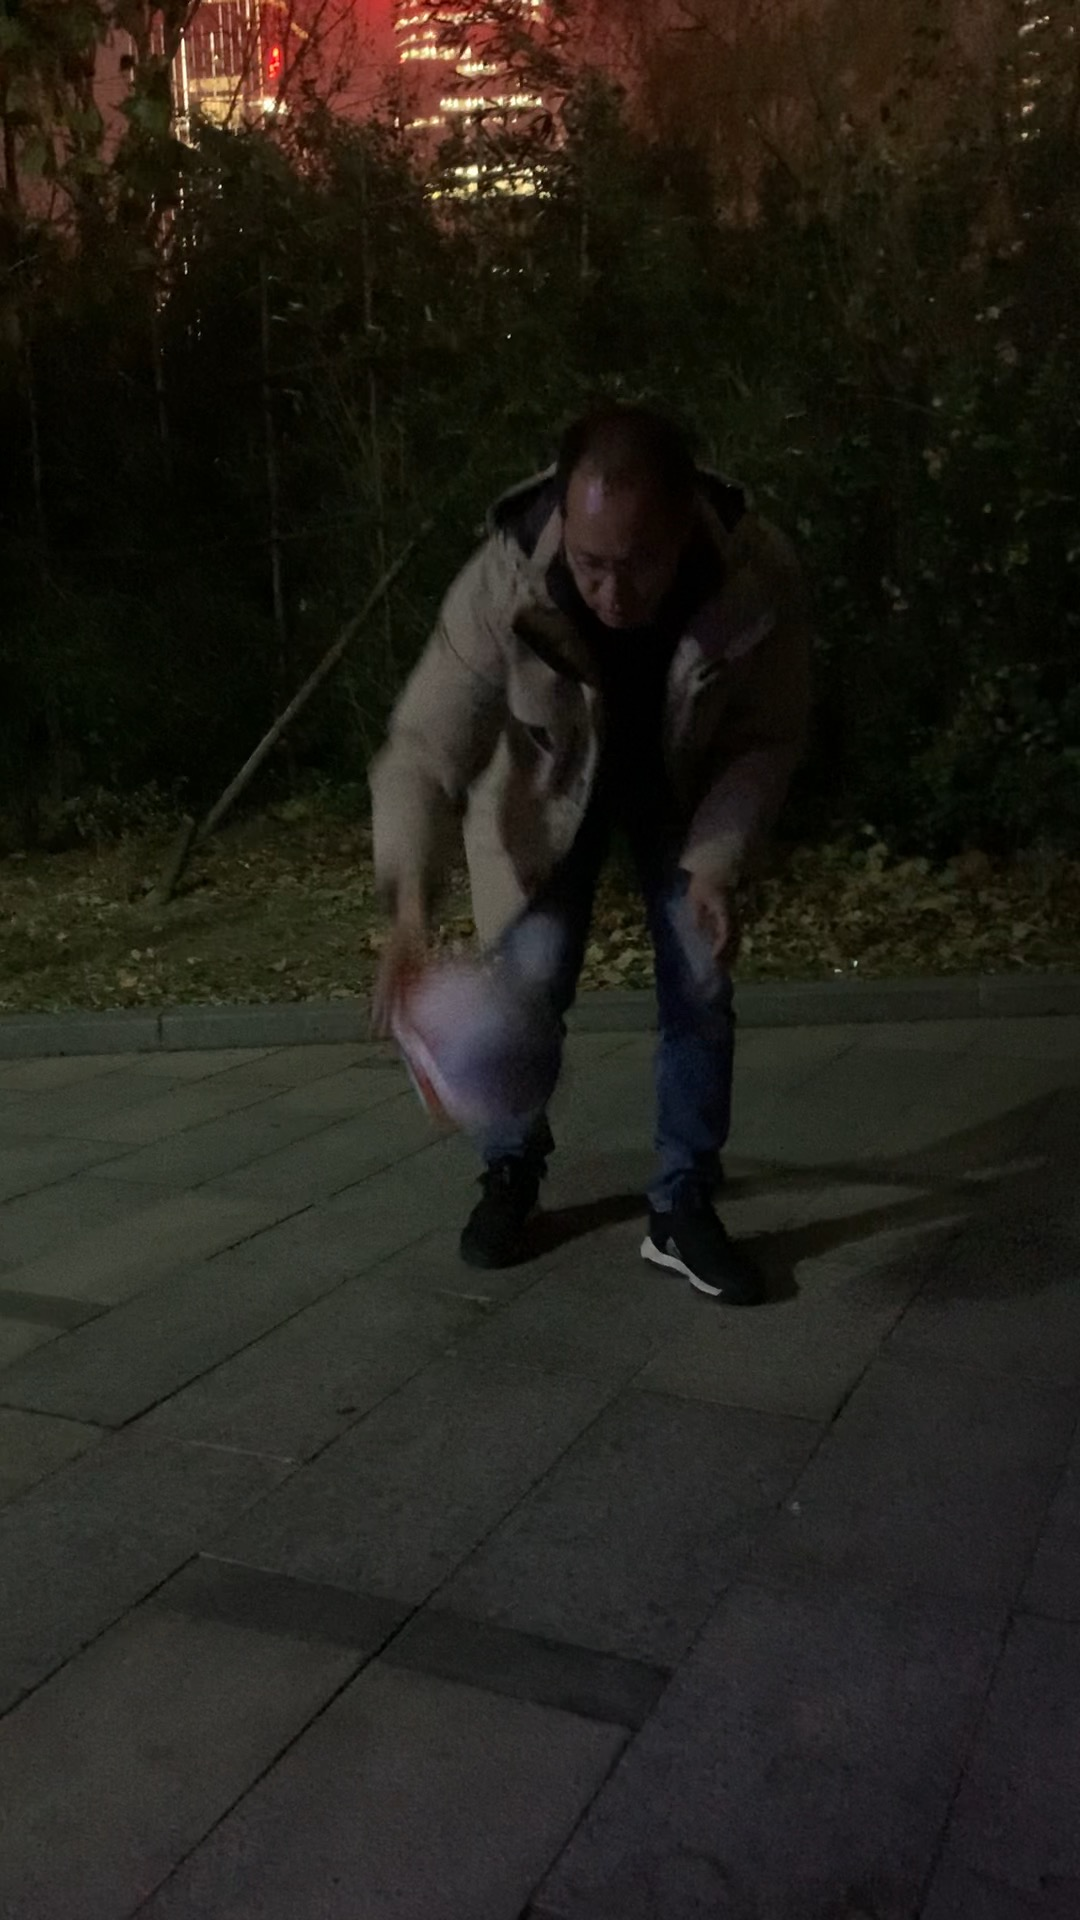ball: (400, 972, 560, 1135)
